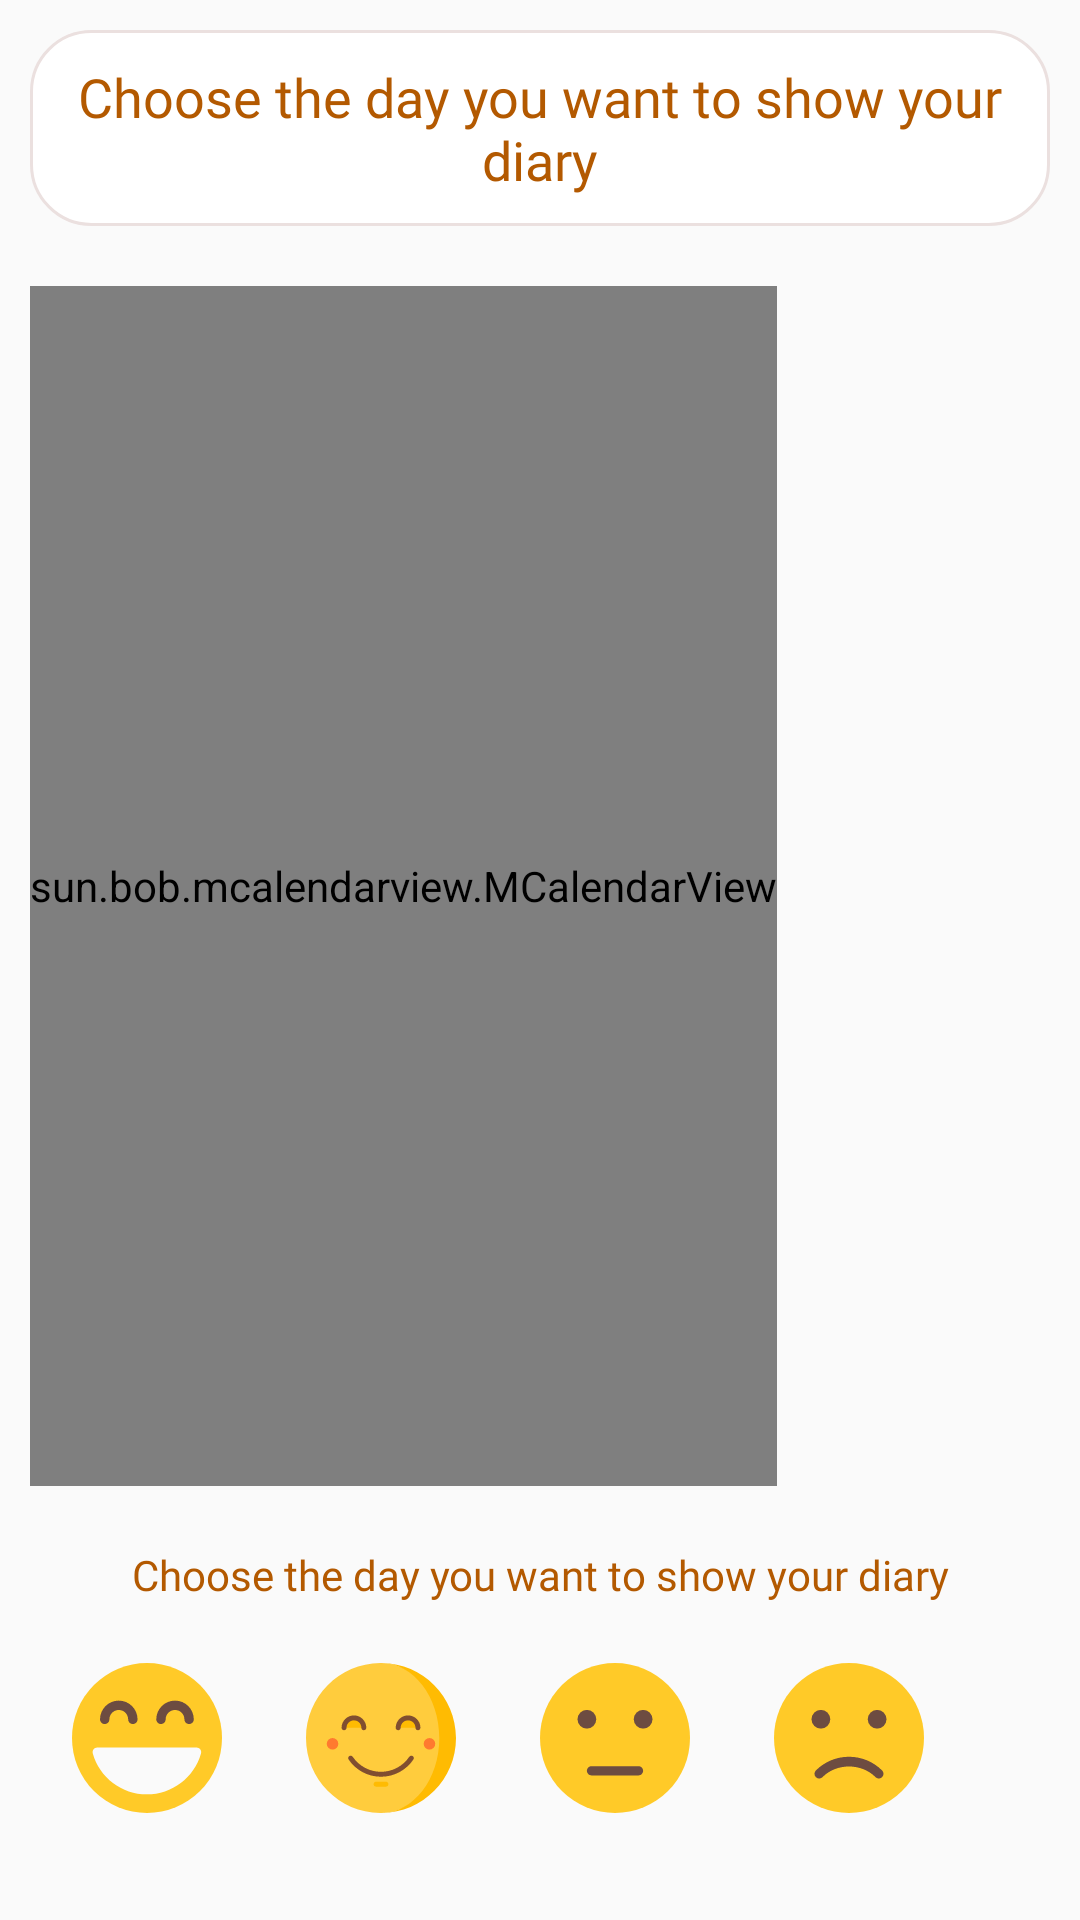

Icon click points for this 1080x1920 phone screenshot, format point (x, y):
good: point (381, 1738)
happy: point (147, 1738)
neutral: point (615, 1738)
sad: point (849, 1738)
